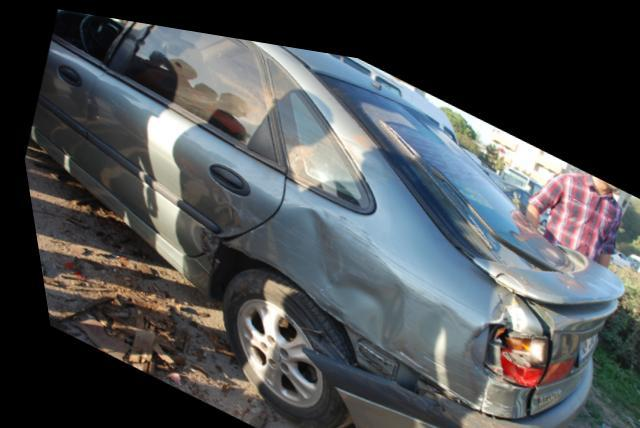dent: (271, 197, 397, 336), (190, 197, 235, 245), (486, 276, 517, 314)
dislocated part: (294, 307, 526, 428)
lamp broken: (477, 311, 536, 371)
scratch: (309, 200, 500, 401), (333, 359, 504, 428), (340, 123, 389, 176)
